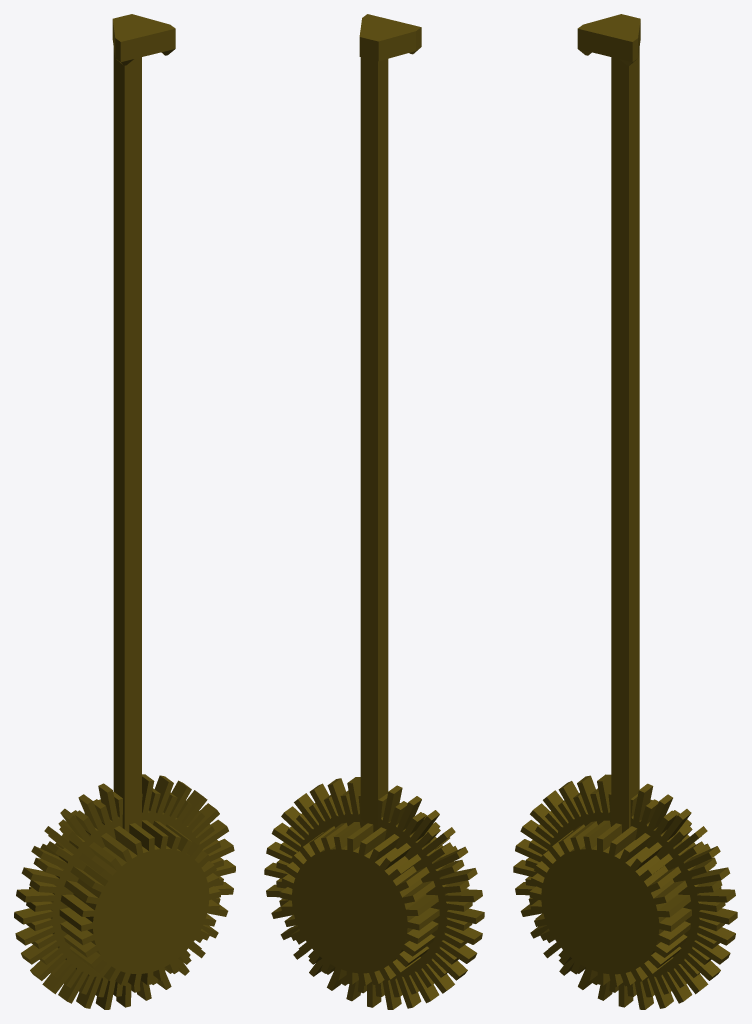
Rendered from pendulum.obj.
The picture shows the model from 3 angles, left to right: view 1: azimuth 30°, elevation 25°; view 2: azimuth 150°, elevation 25°; view 3: azimuth 330°, elevation 25°; orthographic projection.
Visible parts, largest first — view 1: Cylinder.001, Cube.003_Cube.004, Cube.012_Cube.005; view 2: Cylinder.001, Cube.003_Cube.004, Cube.012_Cube.005; view 3: Cylinder.001, Cube.003_Cube.004, Cube.012_Cube.005.
Part boxes in pixels (x1,y1,x2,y2): Cylinder.001: (14,774,235,1009); Cube.003_Cube.004: (113,48,141,832); Cube.012_Cube.005: (112,14,175,65); Cylinder.001: (264,777,484,1009); Cube.003_Cube.004: (360,57,388,831); Cube.012_Cube.005: (359,14,421,61); Cylinder.001: (513,774,737,1009); Cube.003_Cube.004: (611,48,639,833); Cube.012_Cube.005: (577,14,640,65).
Size of the model in its own units: 2.4 by 10.55 by 1.02.
